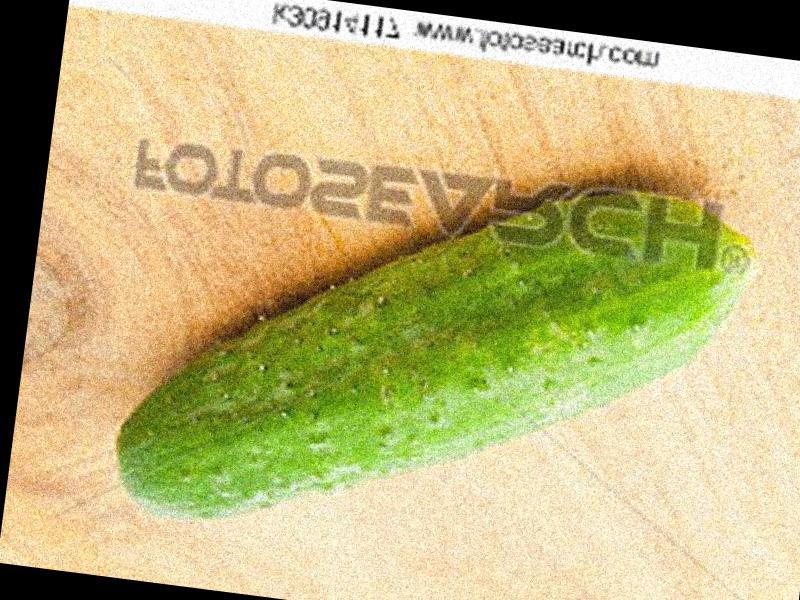Cucumber: (107, 124, 765, 587)
